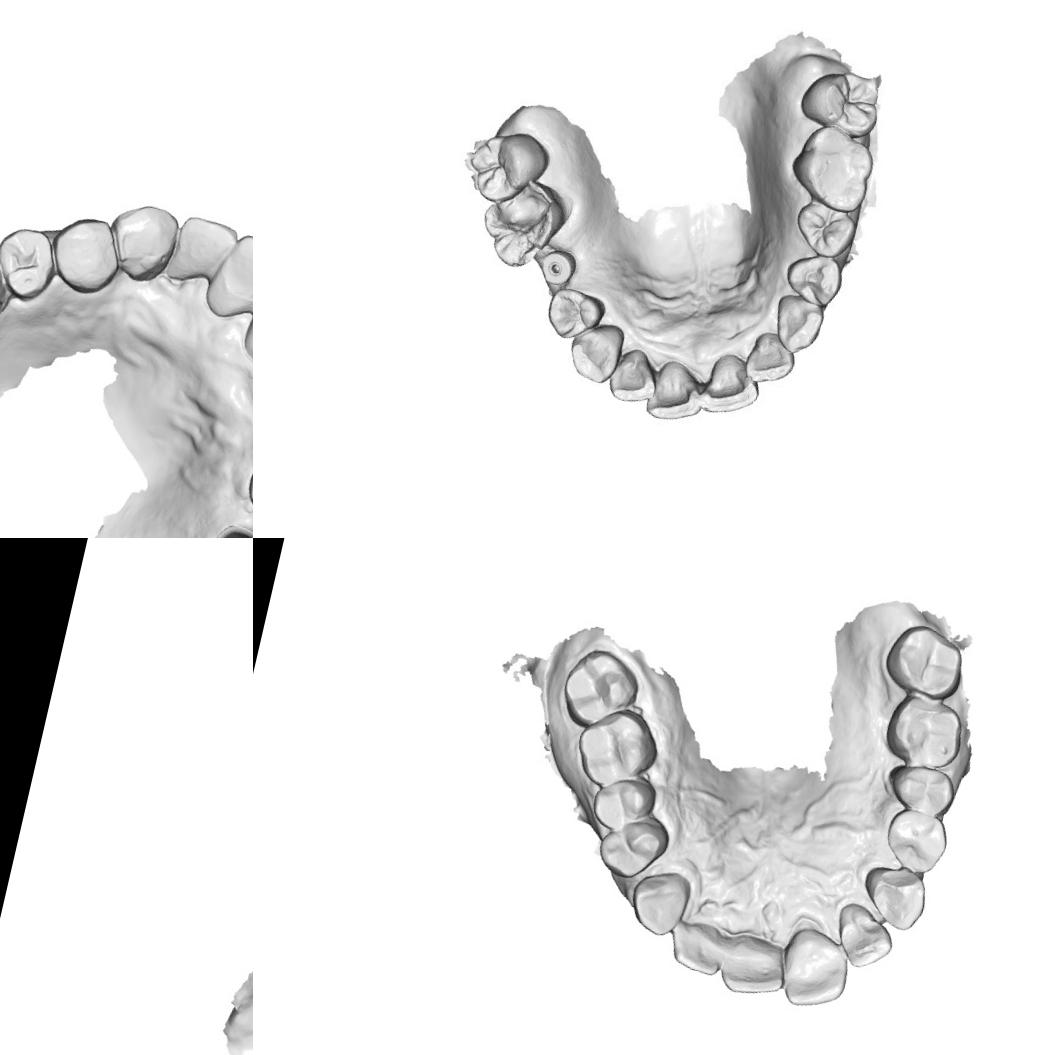abutment: (209, 523, 253, 538)
canine: (102, 190, 188, 288), (855, 858, 933, 934), (625, 864, 696, 942), (561, 312, 629, 390), (770, 294, 826, 355)
implant: (537, 250, 580, 290)
incisor: (772, 923, 856, 1016), (164, 201, 246, 293), (197, 224, 253, 332), (715, 929, 793, 1004), (827, 900, 899, 974), (641, 361, 708, 422), (666, 916, 730, 978), (699, 353, 763, 411), (608, 346, 661, 404), (744, 331, 797, 385)
molar: (569, 699, 666, 798), (554, 642, 646, 738), (791, 122, 882, 216), (478, 178, 568, 272), (879, 618, 971, 704), (879, 688, 971, 774), (802, 59, 889, 136), (459, 126, 543, 204)
premolar: (42, 206, 128, 300), (592, 807, 674, 887), (878, 804, 954, 878), (0, 220, 62, 307), (587, 768, 660, 838), (882, 758, 961, 822), (790, 197, 854, 259), (544, 286, 603, 342), (786, 249, 843, 306)
